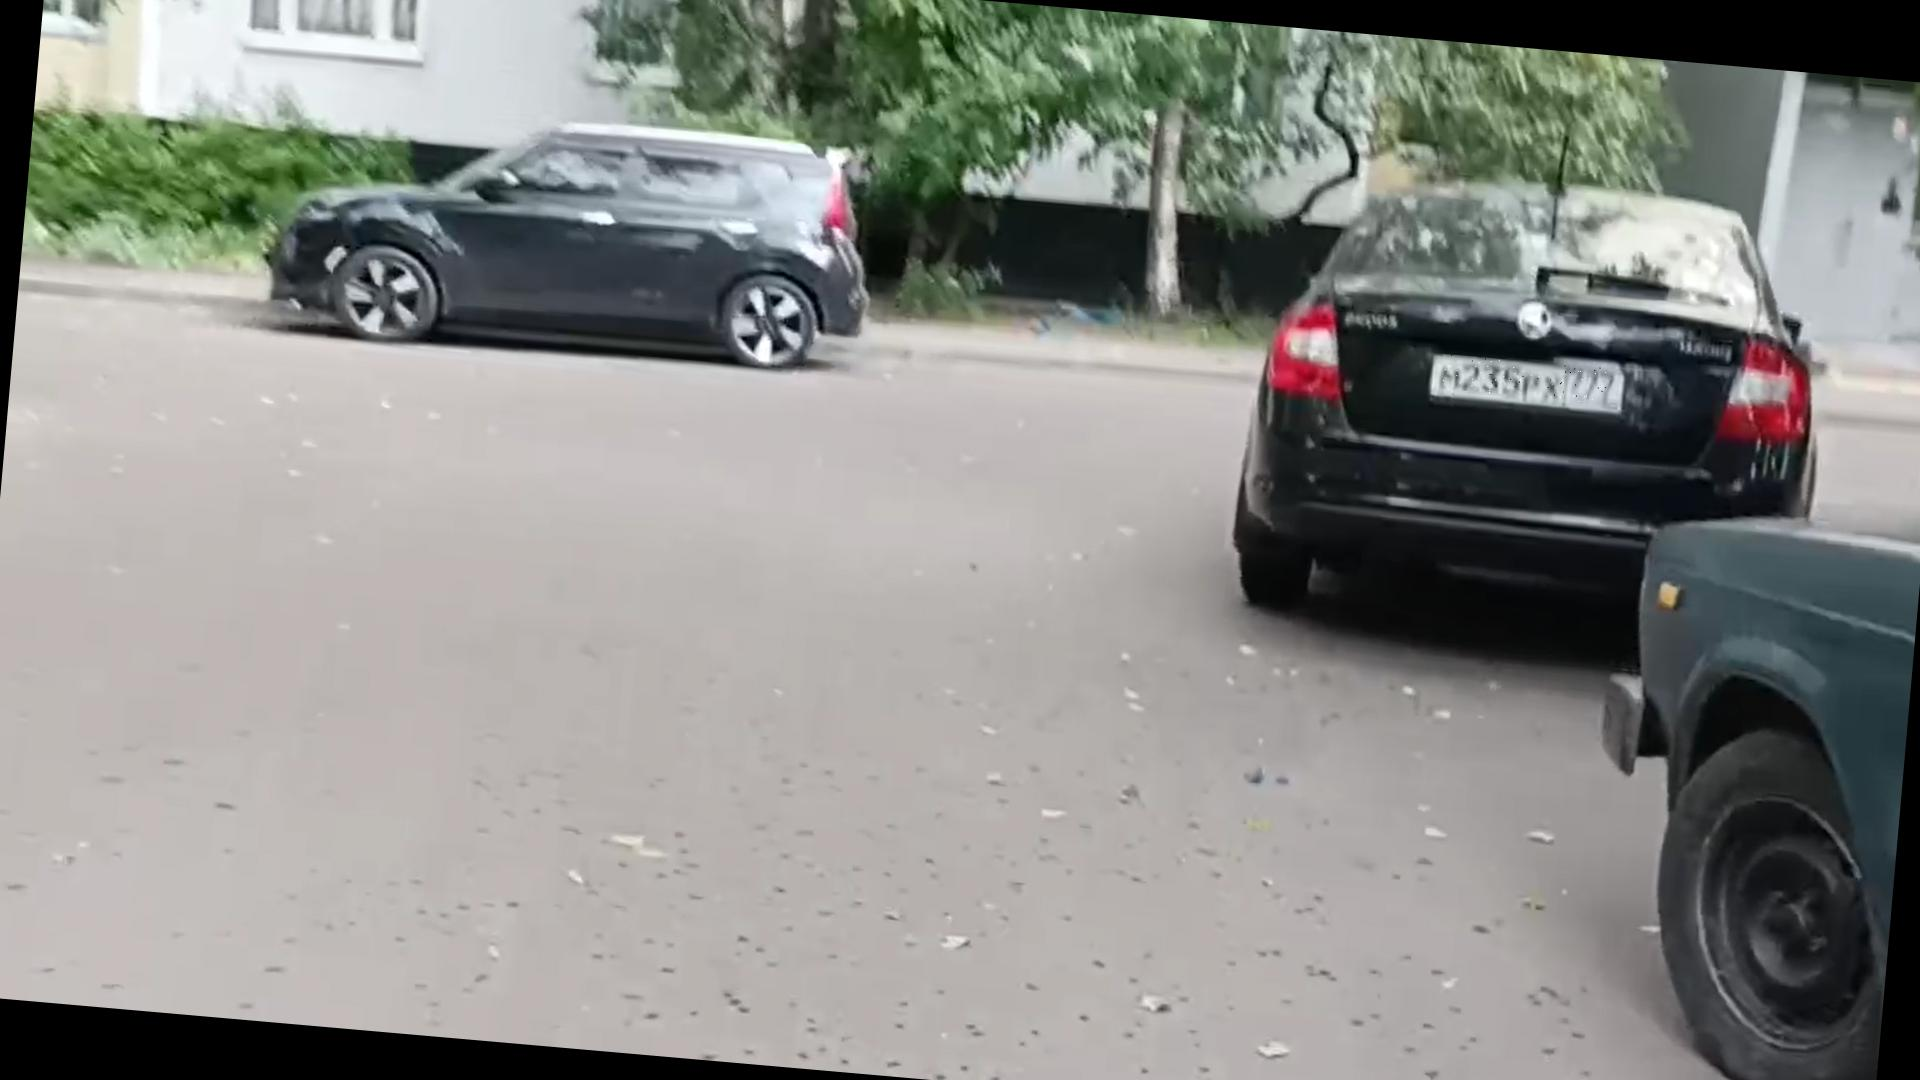plate: (1441, 356, 1610, 406)
